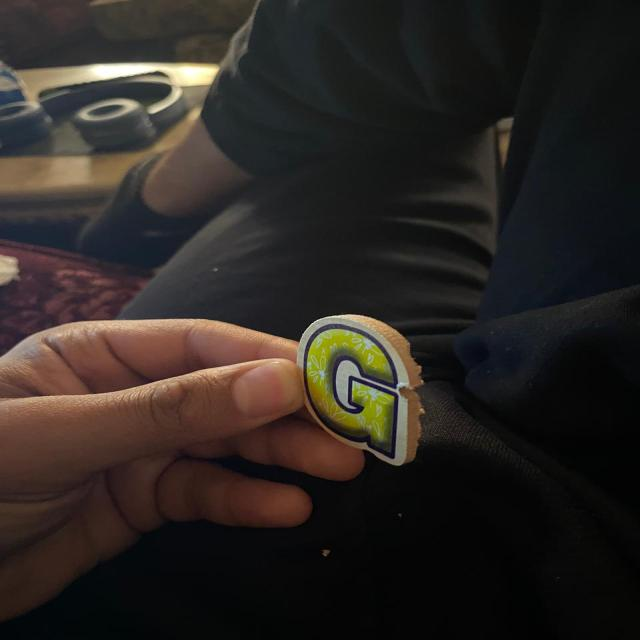G: (297, 316, 420, 465)
